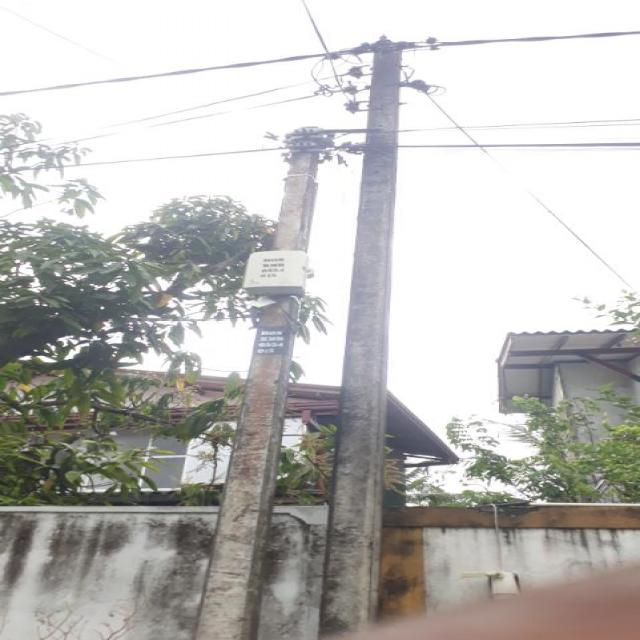light_pole: (336, 30, 451, 640), (202, 127, 336, 640)
